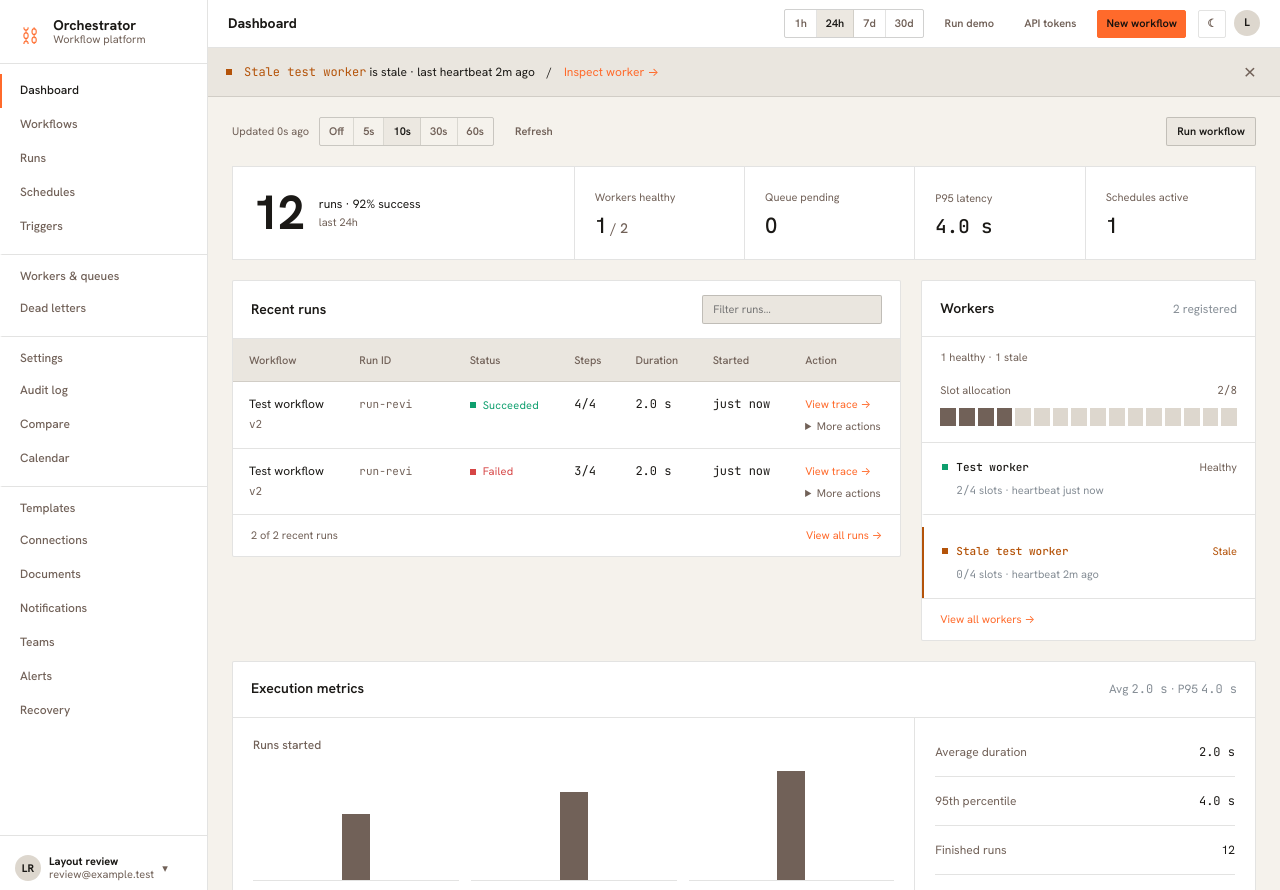
Test: Dashboard presentation › filters loaded runs and retains the trace destination
Type "run-review-002" into the search field labelled "Filter runs" at [792, 309], box [702,295,882,324]
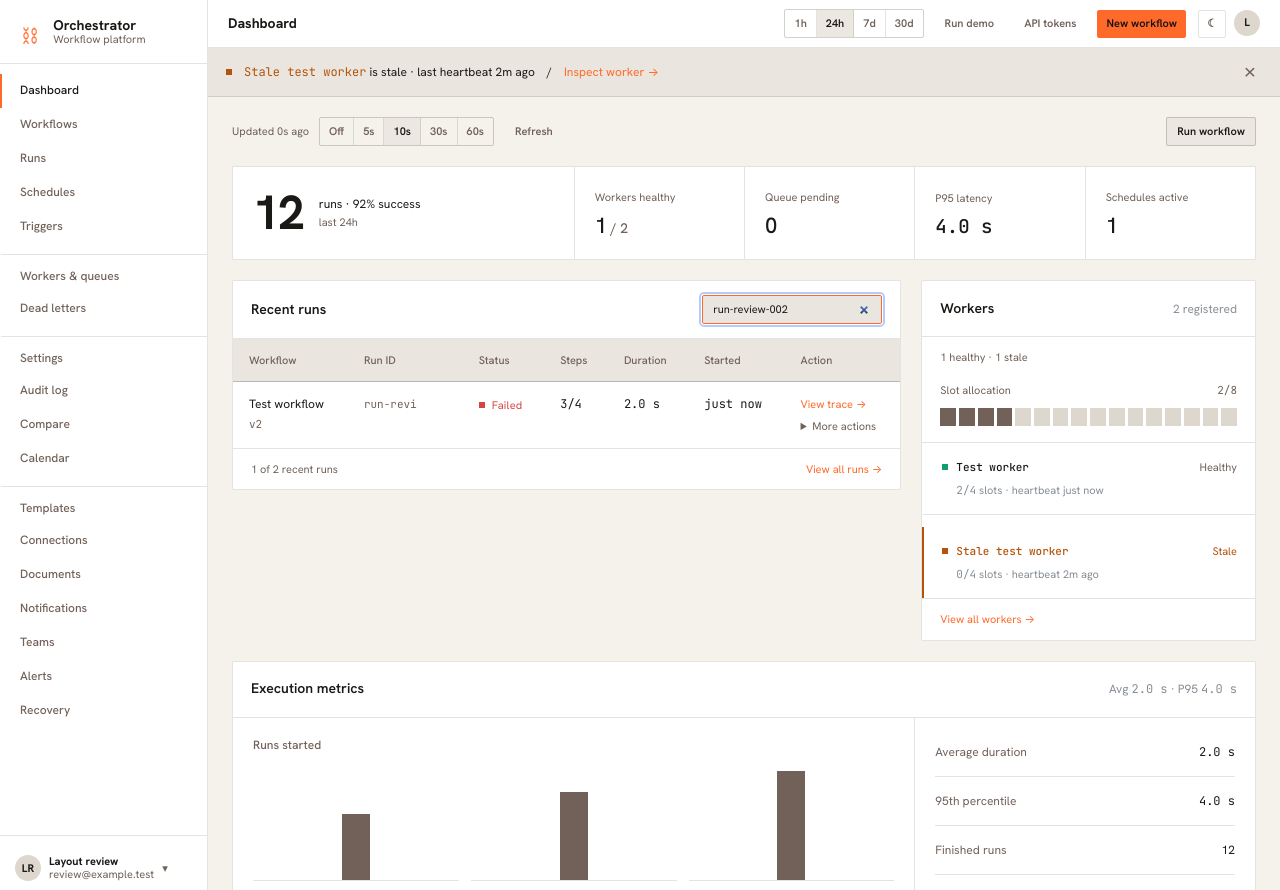
Expected: the number of links "View trace →" is 1, [801,397,866,411]
Replace the text in the search field named "Filter runs" with "no-match" at [792, 309], box [702,295,882,324]
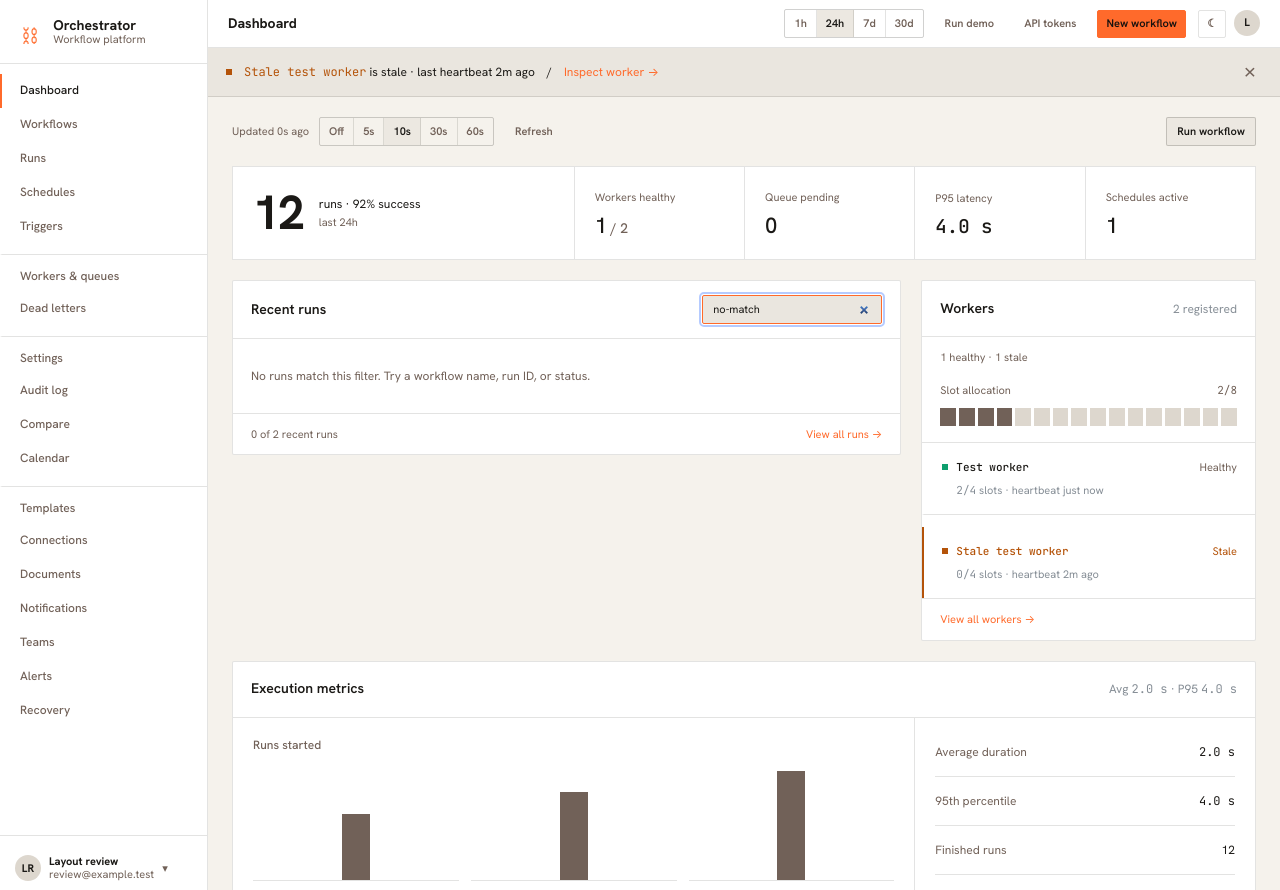
Expected: the text "No runs match this filter. Try a workflow name, run ID, or status." is shown, [251,368,590,384]
